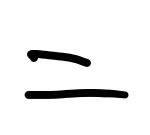eqv: (25, 50, 129, 99)
